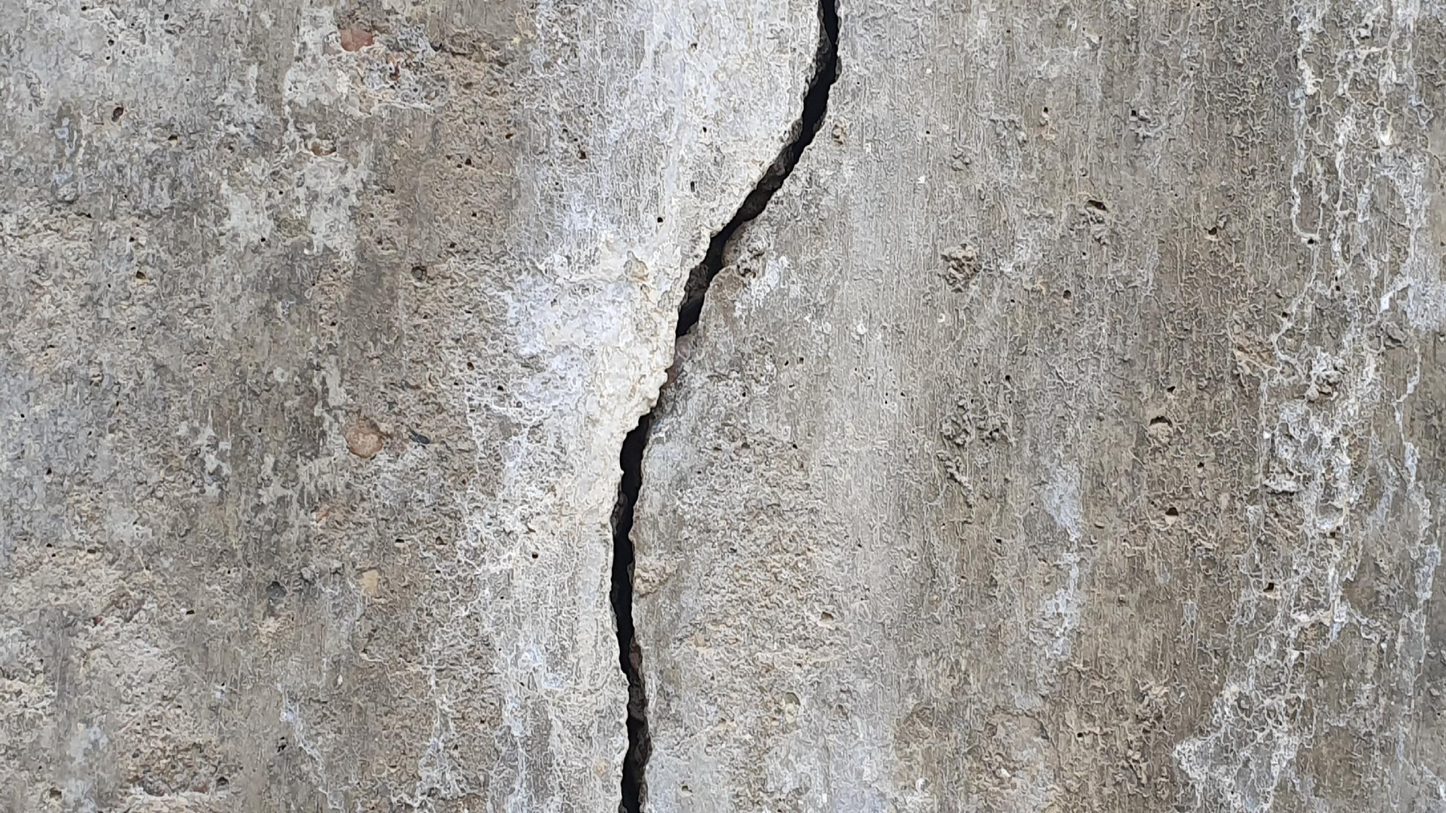crack: (609, 0, 841, 810)
